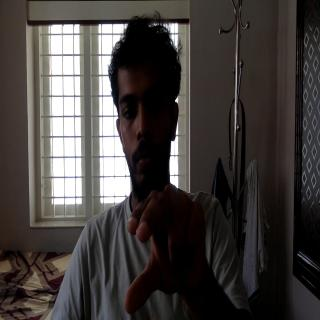No: (117, 172, 220, 320)
